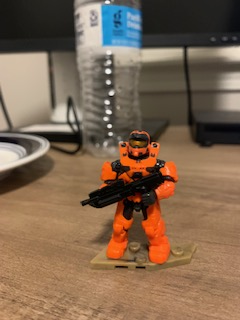rifle: (79, 170, 166, 211)
spartan: (97, 131, 177, 265)
